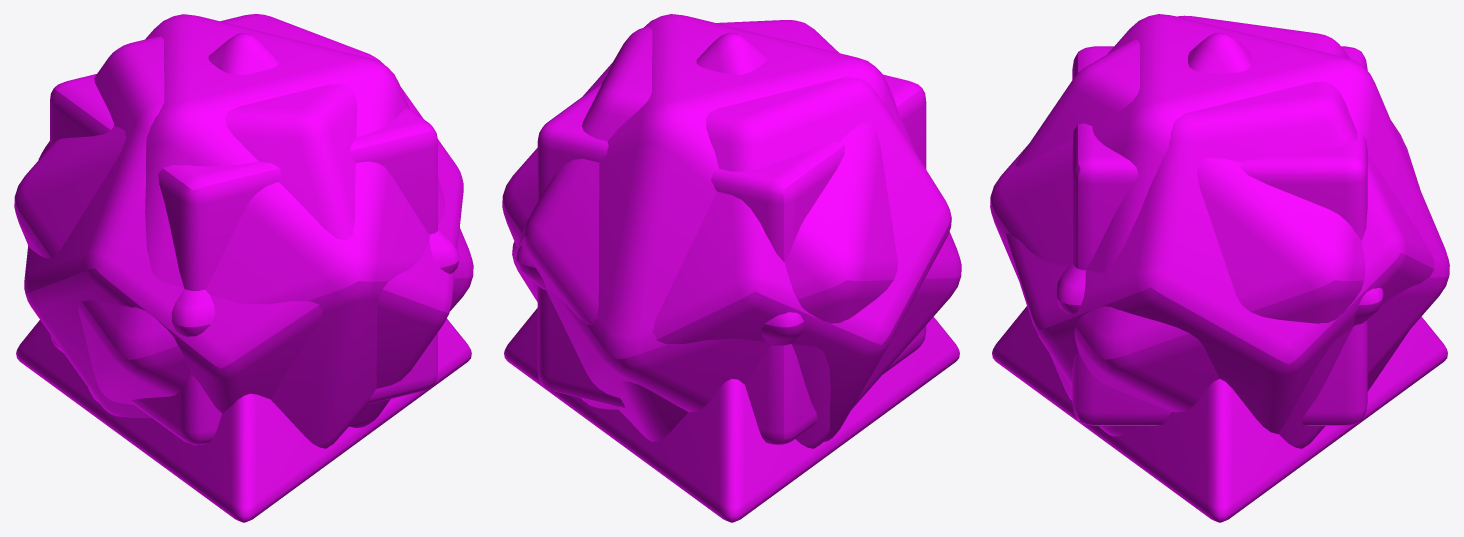
File: Dice_high.FBX
3 views of the same model, side by side, from view 1: azimuth 30°, elevation 25°; view 2: azimuth 150°, elevation 25°; view 3: azimuth 270°, elevation 25° (orthographic).
Visible parts, largest first — view 1: high_20_sides, high_12_sides, high_6_sides, high_4_sides, high_8_sides; view 2: high_20_sides, high_12_sides, high_6_sides, high_4_sides, high_8_sides; view 3: high_20_sides, high_12_sides, high_4_sides, high_6_sides, high_8_sides.
Part boxes in pixels (<box>): high_20_sides: <box>14,14,473,448</box>; high_12_sides: <box>24,14,463,427</box>; high_6_sides: <box>50,74,437,445</box>; high_4_sides: <box>16,318,471,522</box>; high_8_sides: <box>171,33,459,336</box>; high_20_sides: <box>502,14,961,448</box>; high_12_sides: <box>512,20,951,441</box>; high_6_sides: <box>537,74,926,445</box>; high_4_sides: <box>504,308,959,522</box>; high_8_sides: <box>516,32,804,345</box>; high_20_sides: <box>990,14,1449,448</box>; high_12_sides: <box>1005,15,1434,436</box>; high_4_sides: <box>992,306,1447,522</box>; high_6_sides: <box>1072,46,1367,425</box>; high_8_sides: <box>1056,32,1383,325</box>.
Size of the model in its own units: 0.0241 by 0.0225 by 0.0232.
